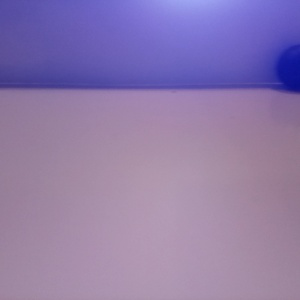dead_ball: (275, 44, 300, 90)
